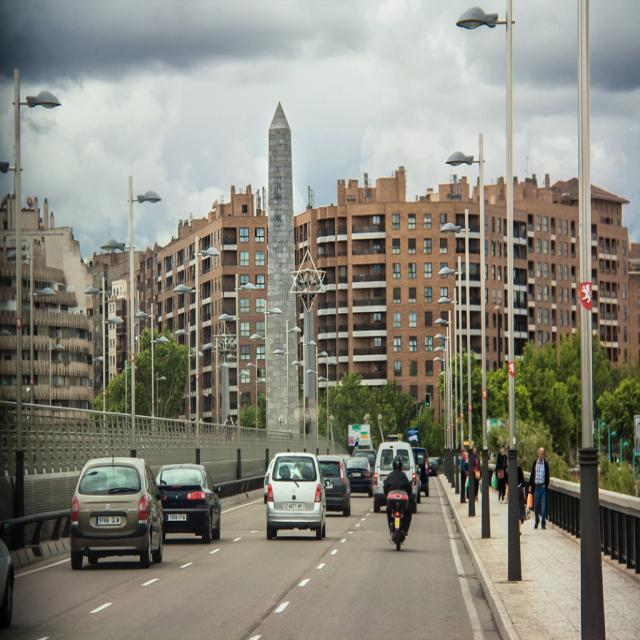car: (68, 450, 164, 567), (268, 455, 326, 534)
